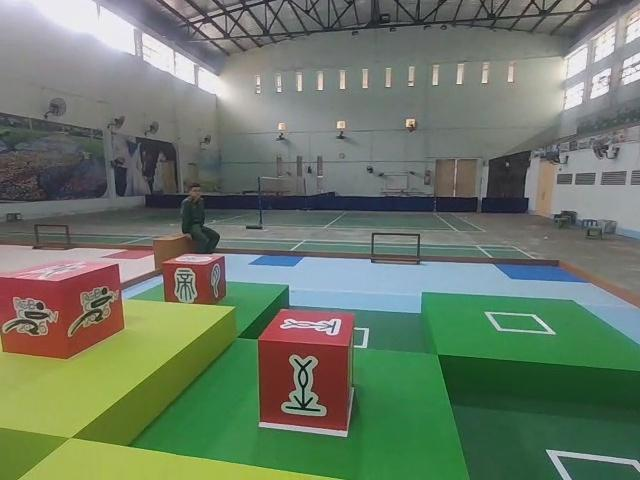R1: (0, 256, 127, 362)
R2 Fake: (159, 250, 229, 307)
R2 Real: (254, 304, 360, 435)
